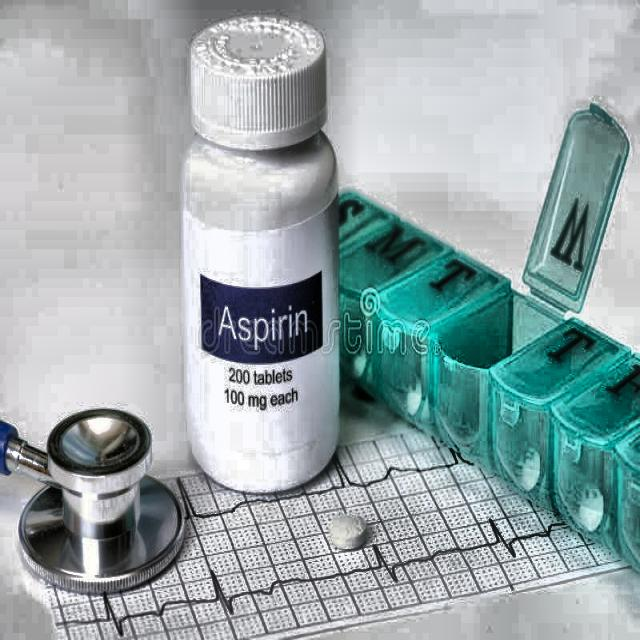Aspirin: (192, 258, 332, 429)
